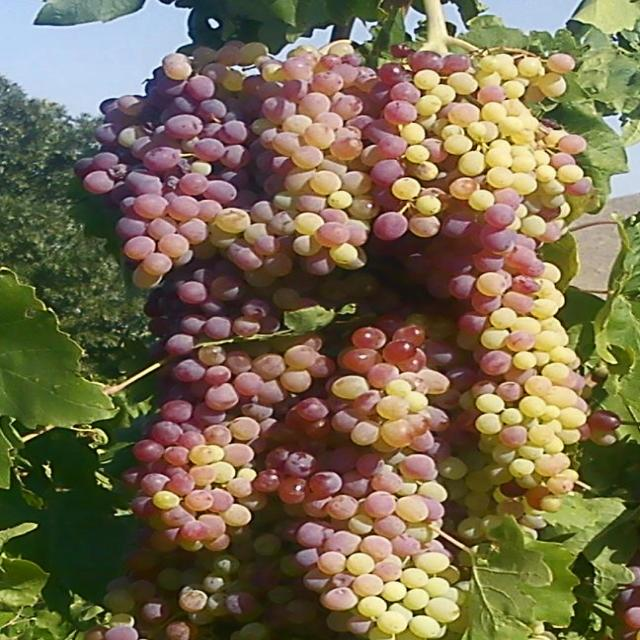grape: (53, 7, 619, 640)
